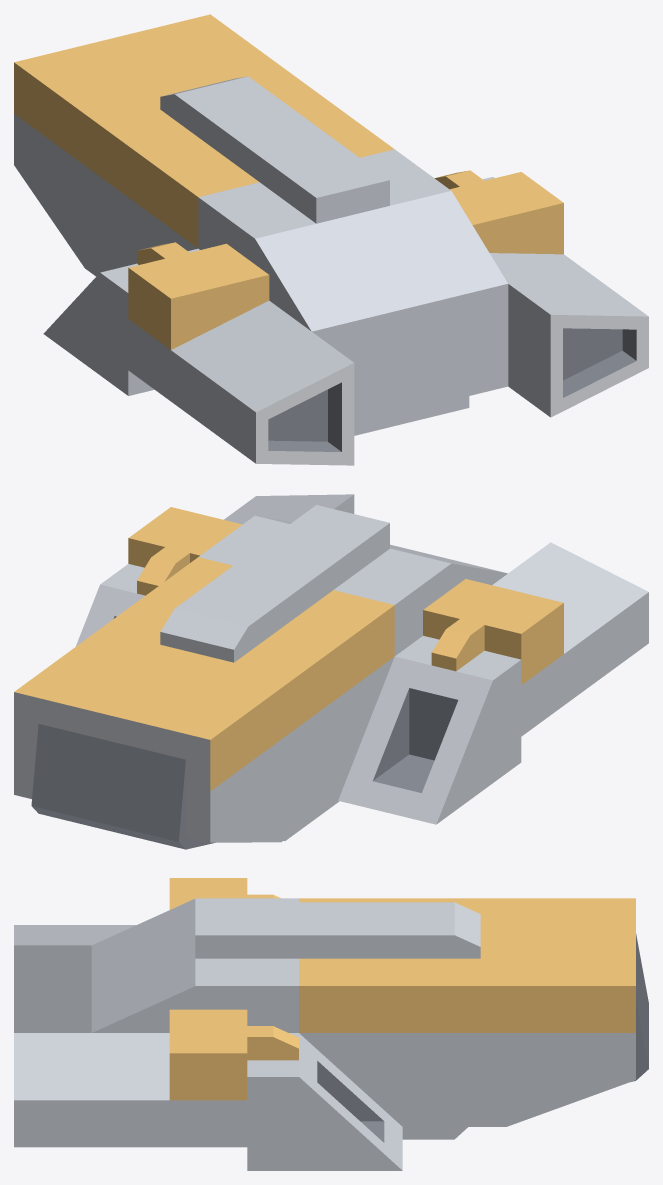
Rendered from craft_cargoA.glb.
3 renders of one model, top to bottom at view 1: azimuth 30°, elevation 25°; view 2: azimuth 150°, elevation 25°; view 3: azimuth 270°, elevation 25°, orthographic. The views are drawn at different scales.
Parts seen in each view (by area): view 1: craft_cargoA; view 2: craft_cargoA; view 3: craft_cargoA.
Boxes of the visible parts, left/top/right/bottom form: craft_cargoA: left=14, top=14, right=648, bottom=465; craft_cargoA: left=14, top=494, right=648, bottom=849; craft_cargoA: left=14, top=878, right=648, bottom=1170.
Size of the model in its own units: 1.6 by 0.8 by 2.45.
